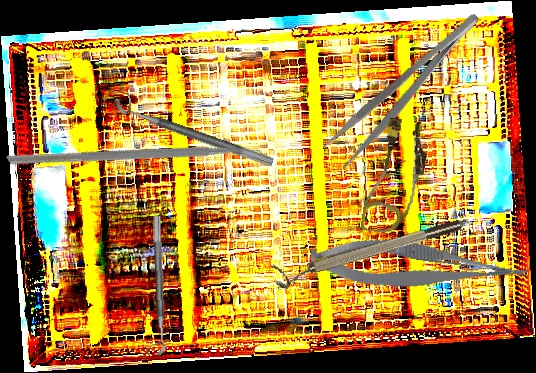Cannula: (360, 115, 431, 238)
Chopper: (5, 35, 275, 290)
Dressing Forceps: (319, 9, 495, 171)
Fixation Ring: (270, 215, 466, 292), (111, 86, 280, 169), (140, 215, 167, 356)
Micro Scissor: (307, 226, 531, 310)
